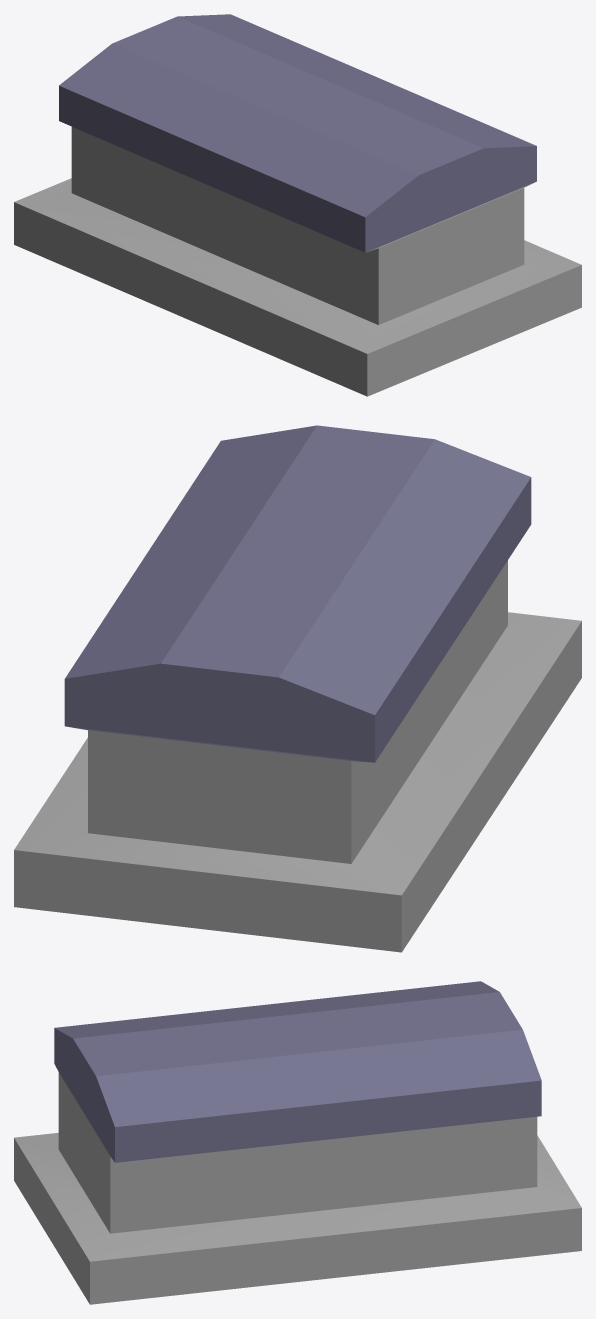
File: coffin.fbx
3 views of the same model, one above another, from view 1: azimuth 30°, elevation 25°; view 2: azimuth 150°, elevation 25°; view 3: azimuth 270°, elevation 25° (orthographic). The views are drawn at different scales.
Visible parts, largest first — view 1: polySurface57; view 2: polySurface57; view 3: polySurface57.
Part boxes in pixels (left/top/right/bottom): polySurface57: left=14, top=14, right=581, bottom=396; polySurface57: left=14, top=425, right=581, bottom=952; polySurface57: left=14, top=981, right=581, bottom=1304.
Bounding box in the file's own units: 7.83 × 3.73 × 10.56.
